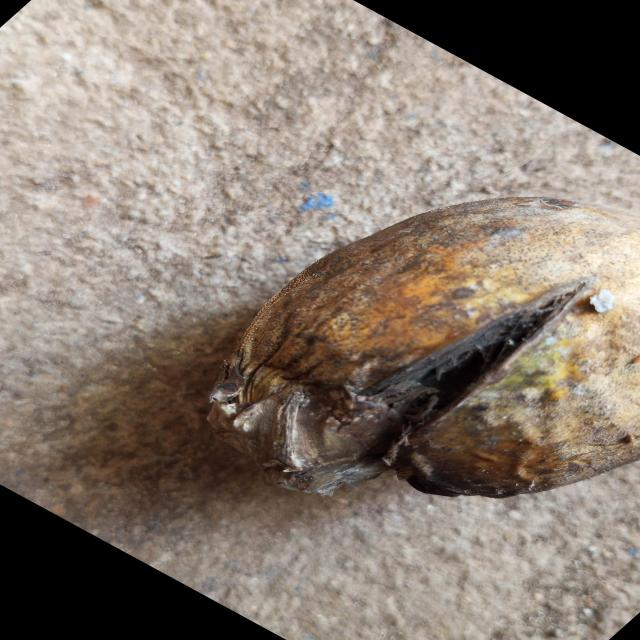damaged: (208, 198, 640, 498)
